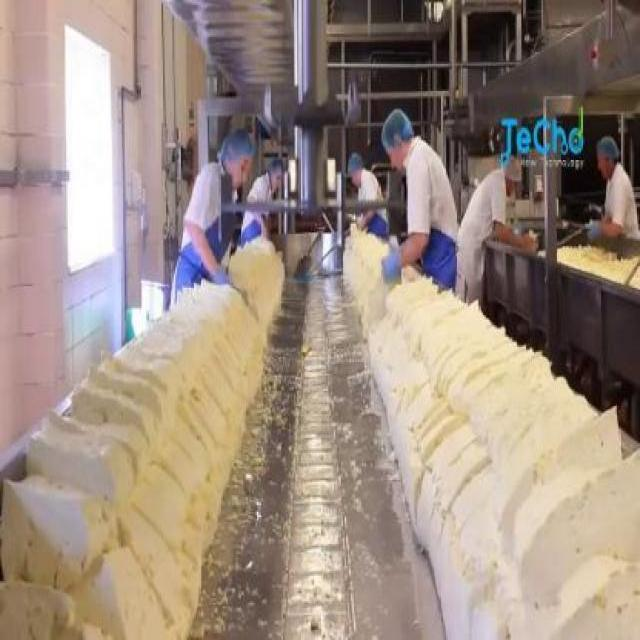bare_hand: (519, 227, 542, 254)
gloved_hand: (207, 249, 239, 300), (376, 241, 408, 288), (581, 219, 605, 244)
